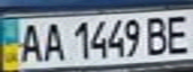1: (69, 18, 90, 60)
4: (87, 17, 109, 60), (106, 16, 127, 58)
9: (121, 16, 145, 57)
A: (15, 20, 45, 63), (39, 19, 66, 62)
B: (142, 14, 172, 56)
E: (160, 11, 193, 55)
